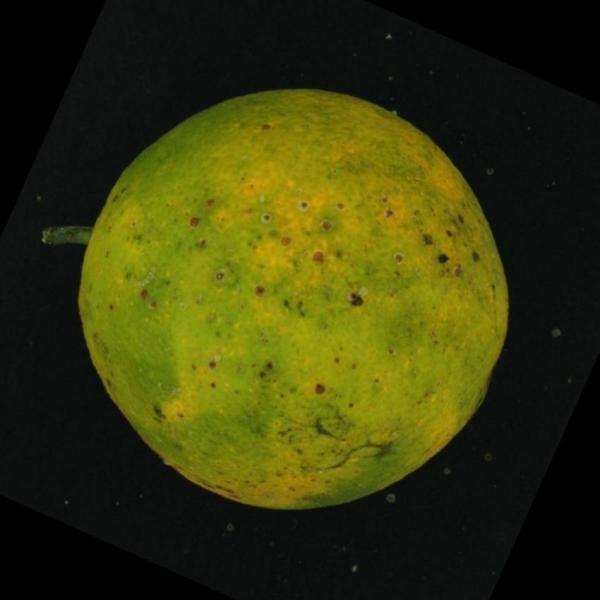Greening: (43, 74, 524, 515)
